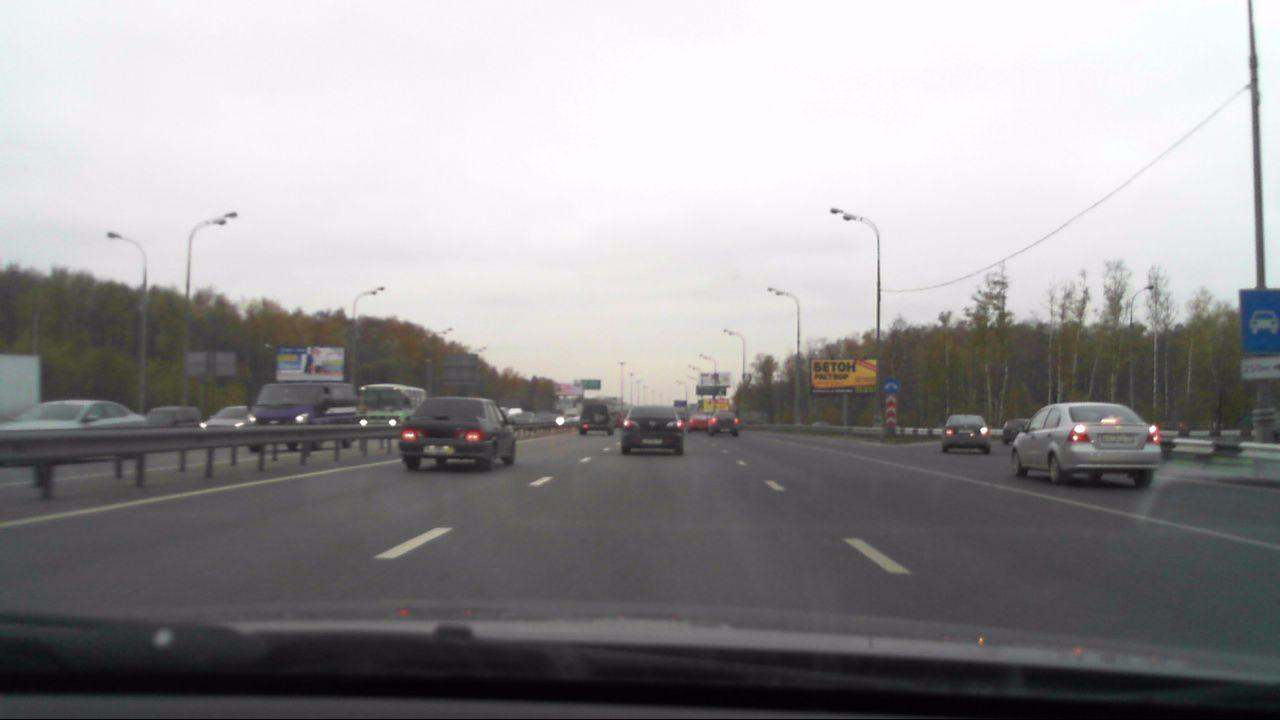4_2_3: (883, 376, 900, 395)
5_3: (1241, 291, 1279, 350)
8_1_3: (1240, 355, 1280, 381)
8_22_3: (884, 394, 898, 426)
